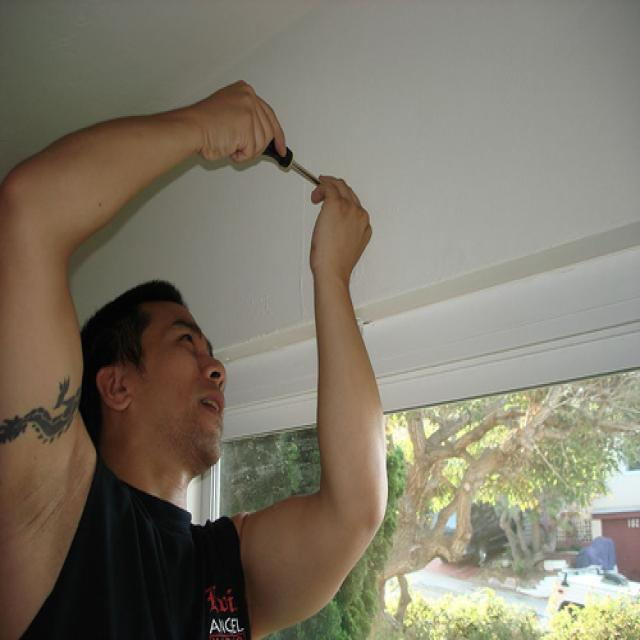screw_driver: (256, 136, 328, 193)
